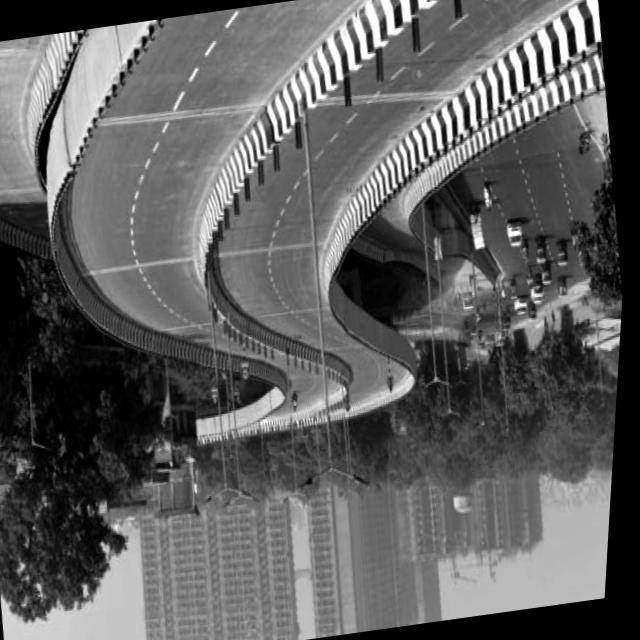cleat: (12, 0, 626, 557)
